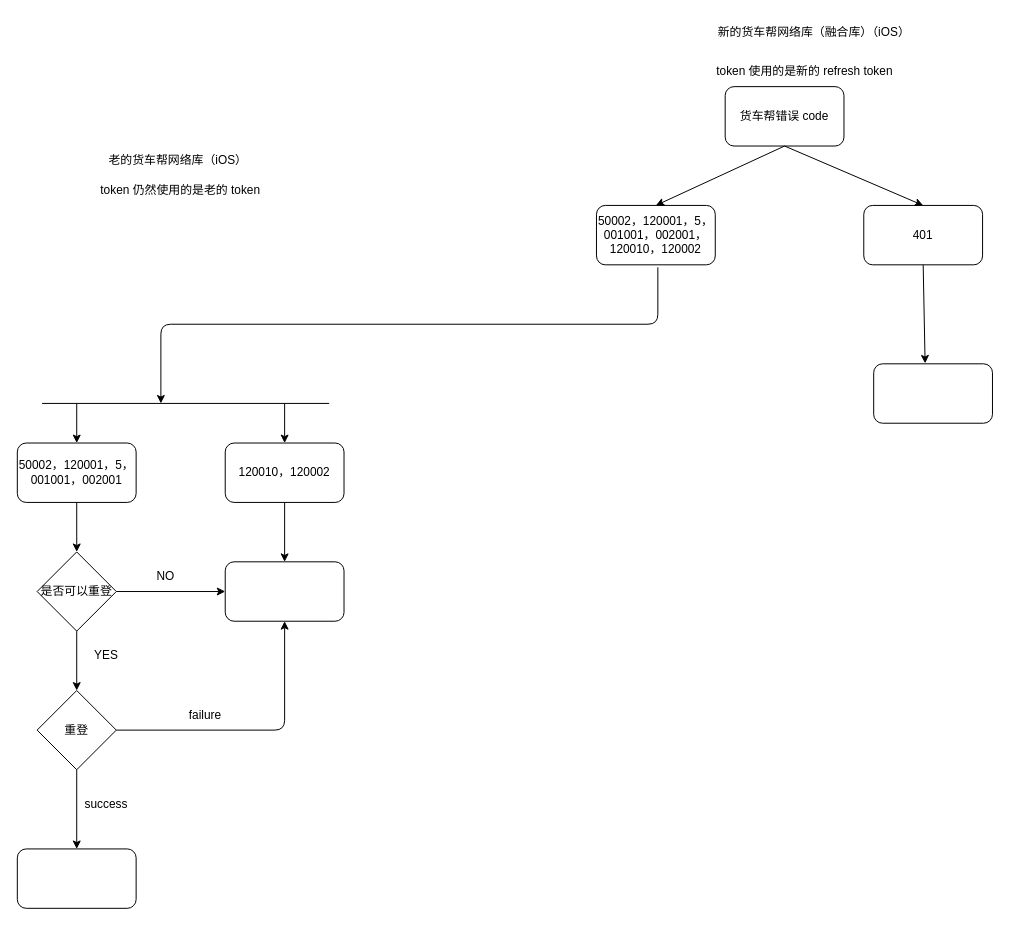
Some shapes in this 1010 by 926 pixel diagram are drawn without their labels. The centre of each missing label's shape, as x and y in pixels:
"refresh token" goes at point (932, 393).
"弹登出框" goes at point (284, 591).
"正常运行" goes at point (76, 878).
